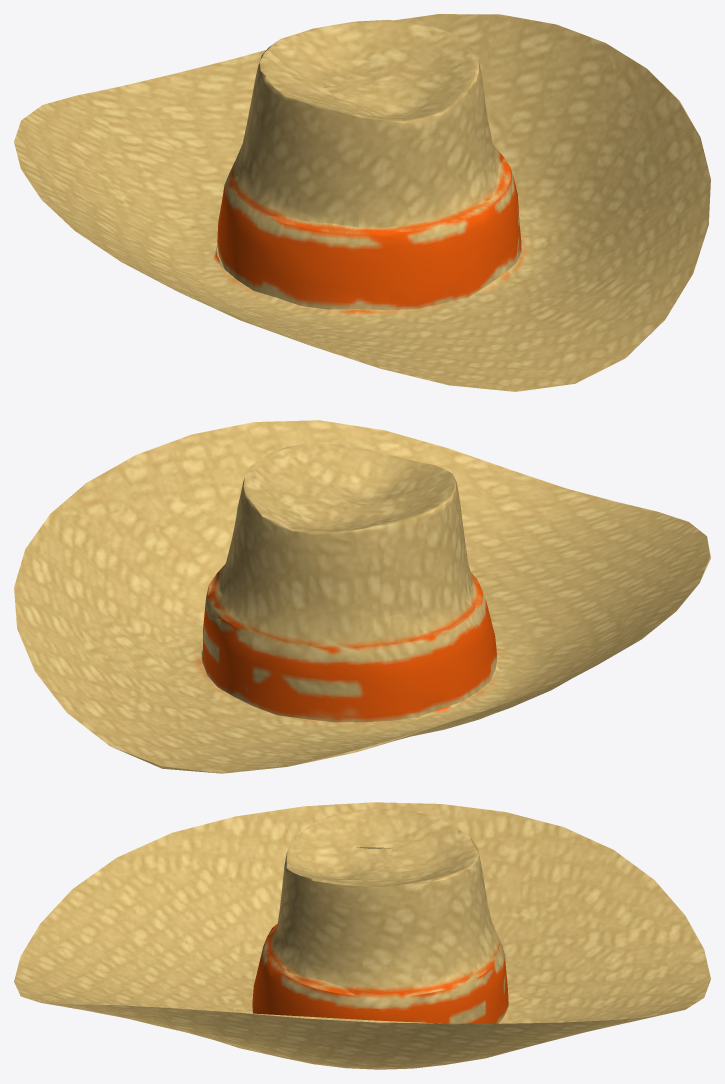
The model's file is wear_strawhat.glb.
3 renders of one model, top to bottom at view 1: azimuth 30°, elevation 25°; view 2: azimuth 150°, elevation 25°; view 3: azimuth 270°, elevation 25°, orthographic. The views are drawn at different scales.
Visible parts, largest first — view 1: mesh; view 2: mesh; view 3: mesh.
Boxes of the visible parts, x1,y1,x2,y2 form: mesh: (14, 14, 710, 391); mesh: (14, 420, 710, 773); mesh: (14, 802, 710, 1069).
Size of the model in its own units: 0.4504 by 0.14 by 0.5557.
1 material, 1 textured.
